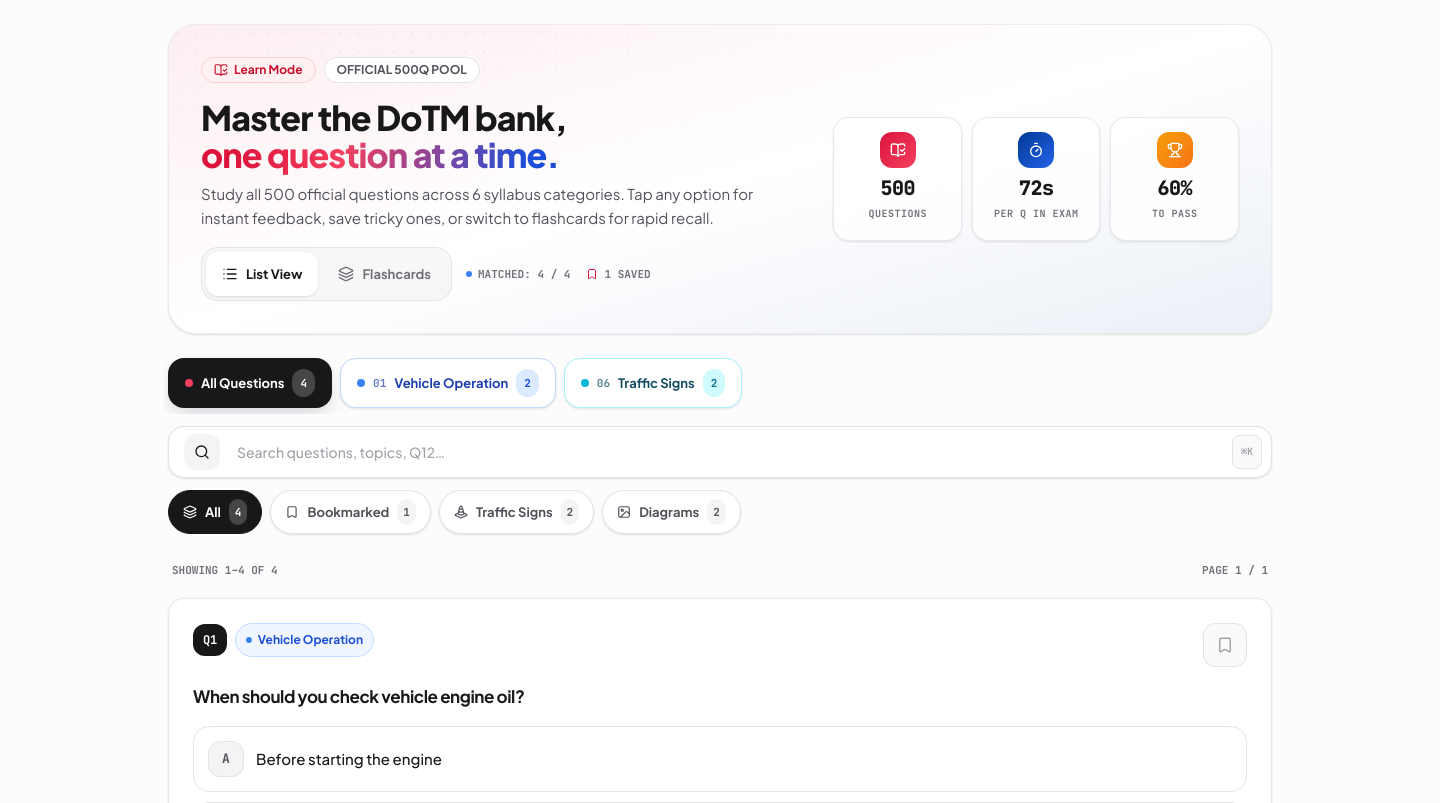
Test case: LearnView Integration › filters by Bookmarked Only chip
# Click Bookmarked chip
Click the button "Bookmarked 1" at (351, 512), box [270, 490, 431, 534]
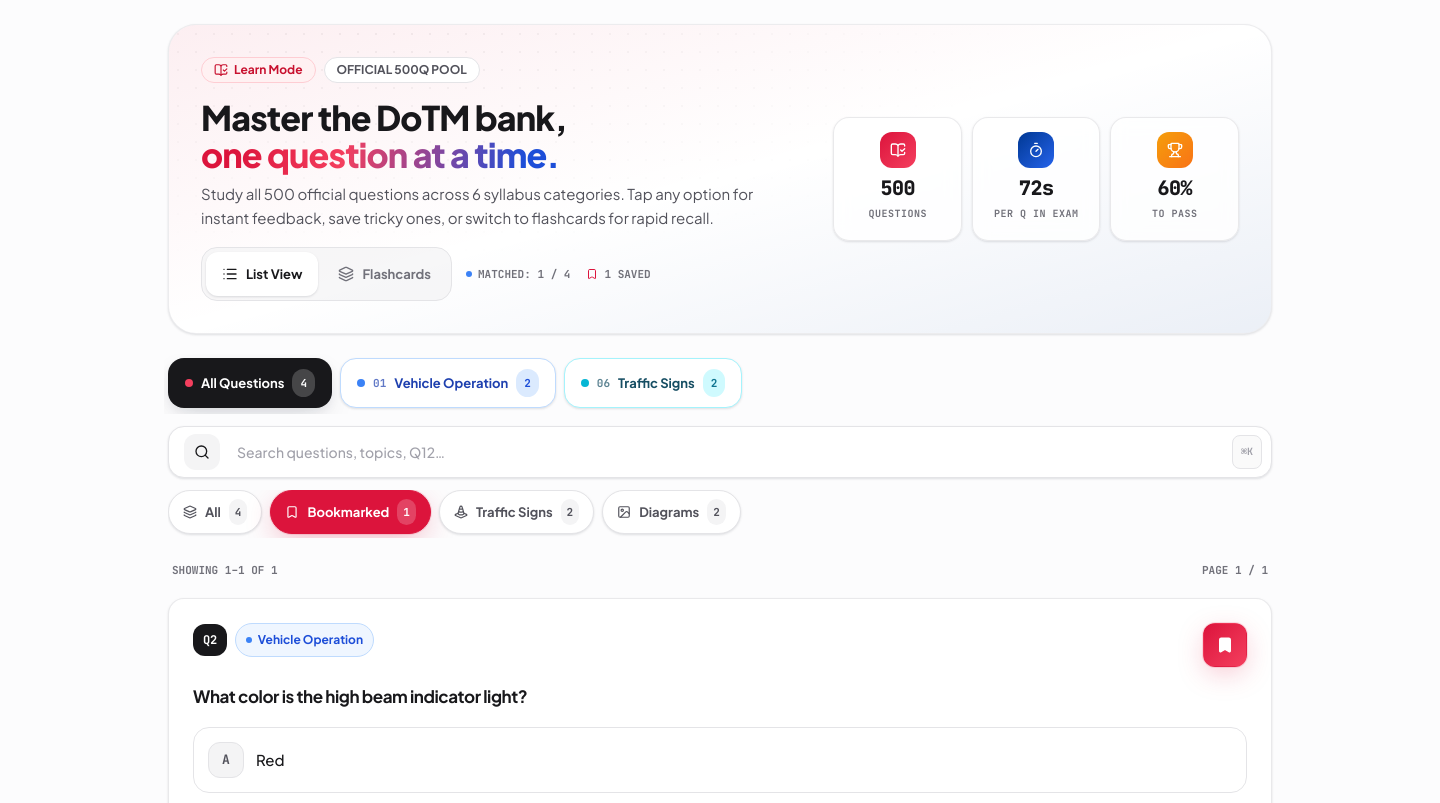
expect the heading "What color is the high beam indicator light?" is shown: met, box [193, 684, 527, 706]
expect the heading "When should you check vehicle engine oil?" is gone: met
